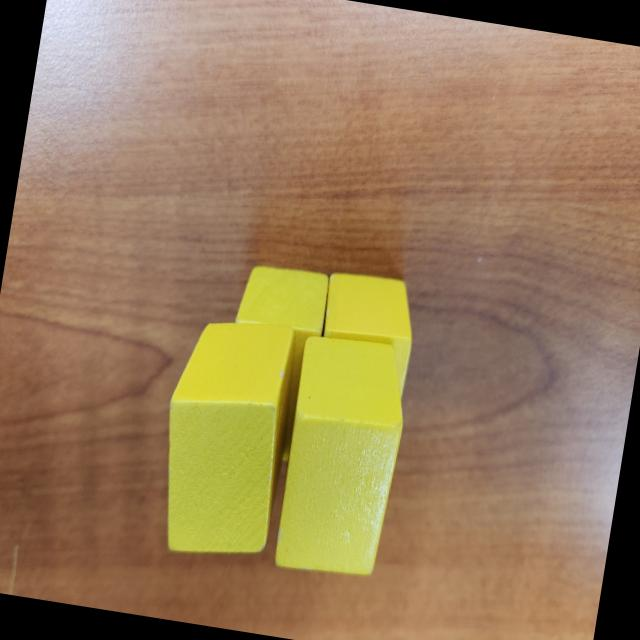yellow: (145, 312, 307, 570), (267, 332, 418, 586), (214, 261, 332, 468), (312, 270, 421, 405)
